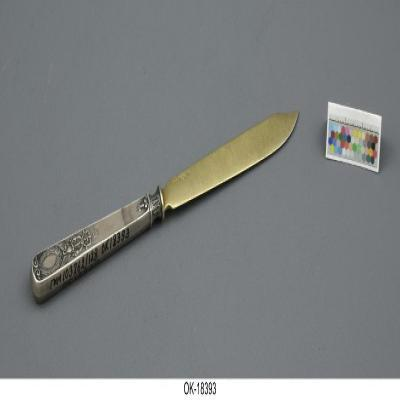dpi: (30, 112, 300, 304)
